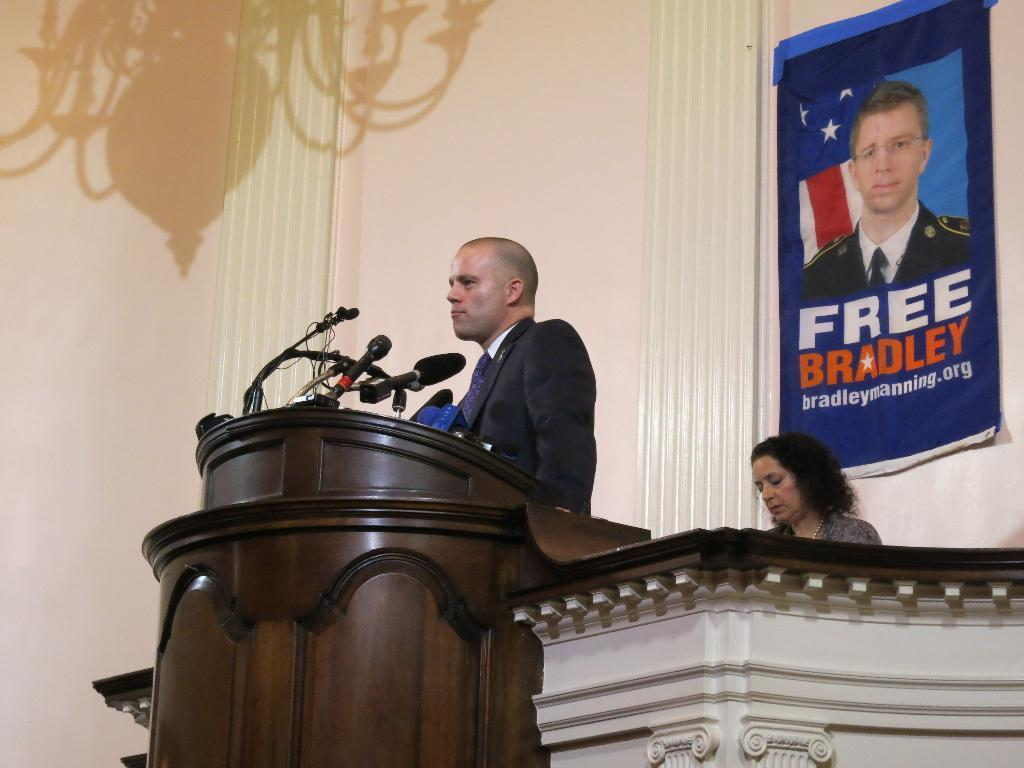Sem Máscara: (445, 246, 507, 340), (748, 453, 802, 523)
